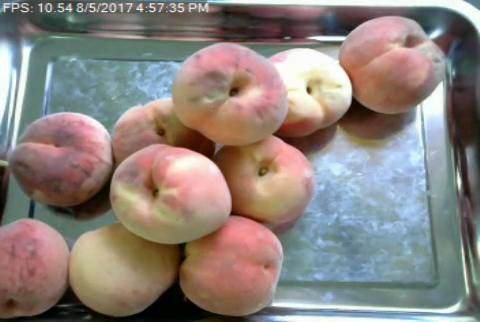Peach: (173, 41, 288, 145), (111, 145, 232, 242), (338, 14, 445, 114), (68, 219, 177, 316), (178, 217, 281, 316), (8, 111, 115, 206), (211, 135, 314, 226), (265, 48, 352, 137), (0, 219, 69, 316)
